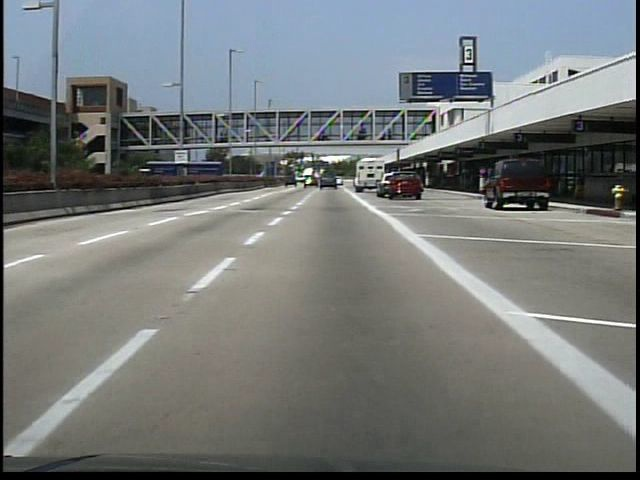person: (410, 171, 426, 198)
